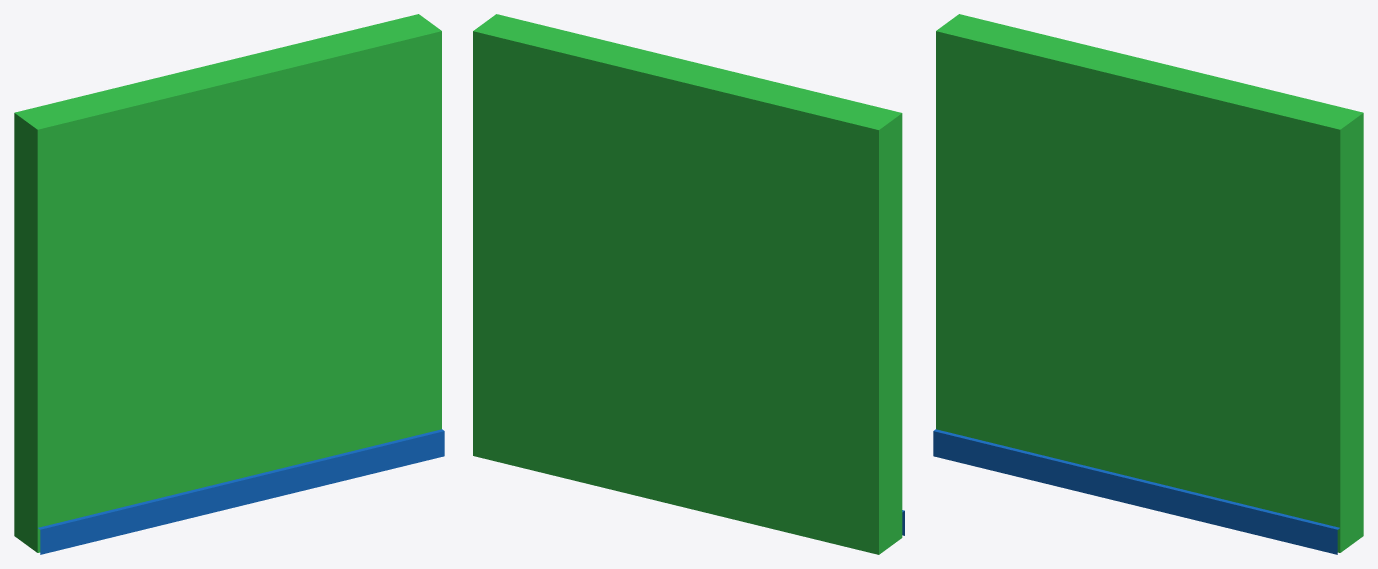
Rendered from SM_wall.fbx.
3 renders of one model, left to right at view 1: azimuth 30°, elevation 25°; view 2: azimuth 150°, elevation 25°; view 3: azimuth 330°, elevation 25°, orthographic.
Parts seen in each view (by area): view 1: wall; view 2: wall; view 3: wall.
Boxes of the visible parts, box(x1,y1,x2,y2) form: wall: box(14, 14, 444, 554); wall: box(473, 14, 904, 554); wall: box(933, 14, 1363, 554).
Size of the model in its own units: 300 by 300 by 33.28.
